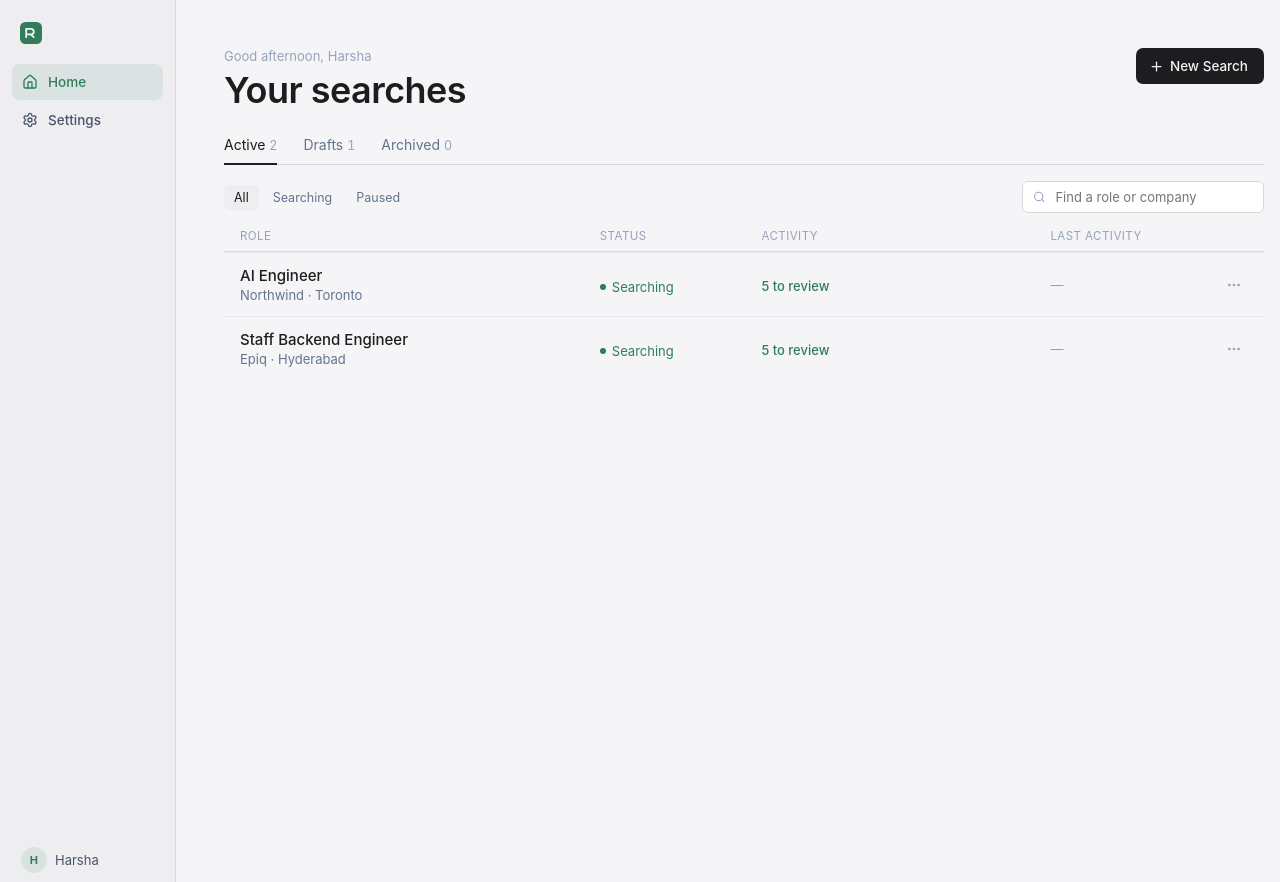
the sidebar and switching between searches › opens a search from the sidebar, marks it active, and shows its own candidates
Click the button "New Search" at (1200, 66), box x1=1136 y1=48 x2=1264 y2=84
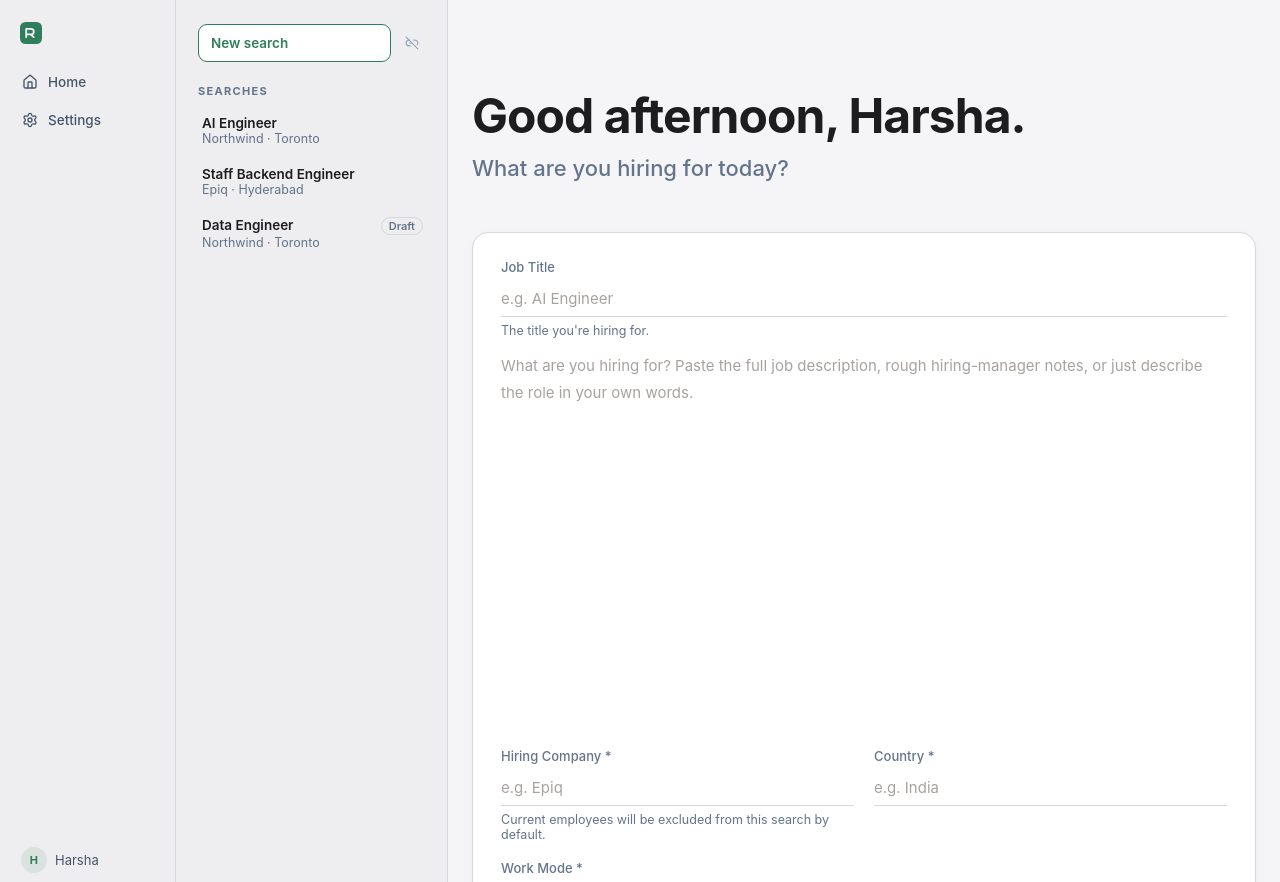
Click the button with class "app-sidebar__item" that starts with "AI Engineer" at (312, 130), box x1=190 y1=106 x2=433 y2=155
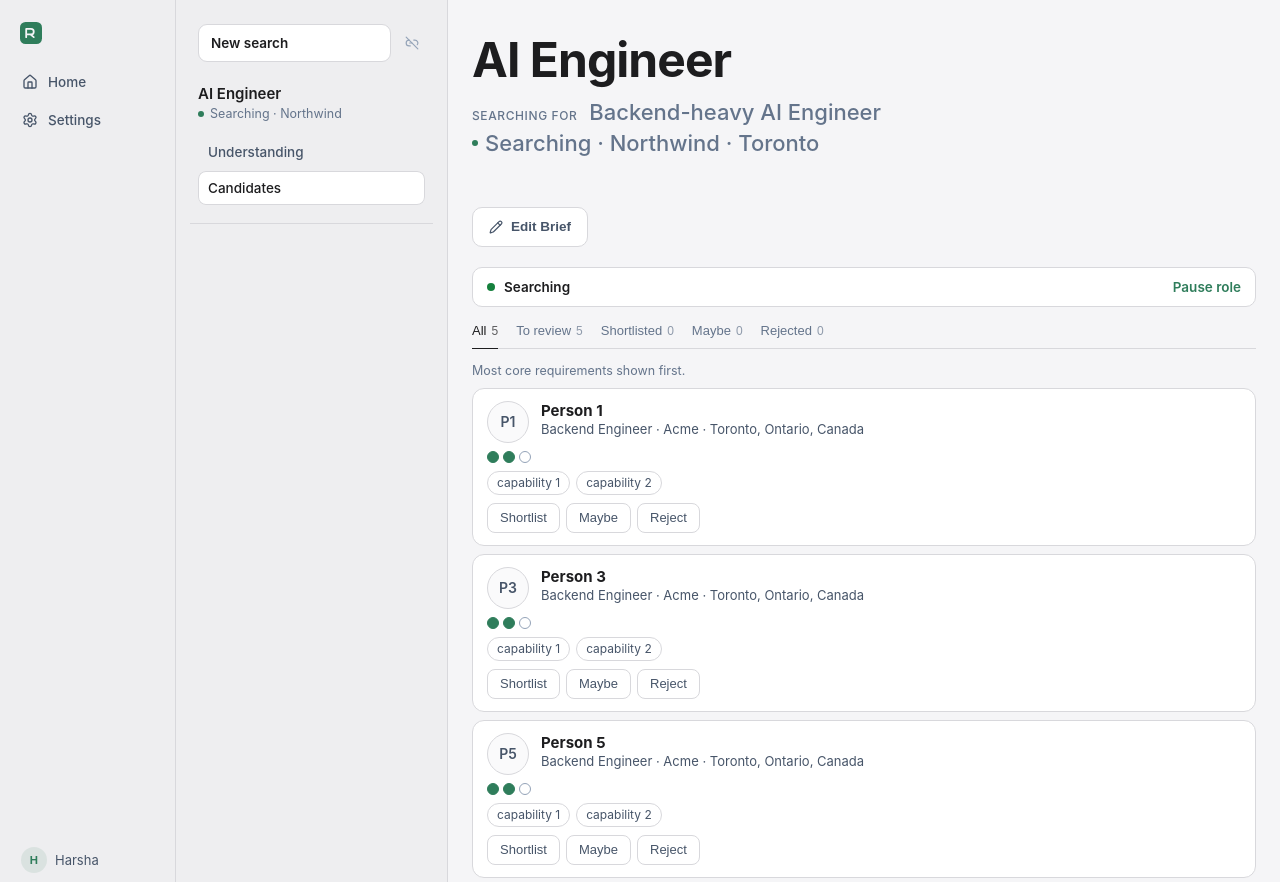
Expected: the heading "AI Engineer" is shown, x1=472 y1=30 x2=731 y2=89
Expected: the text with class "app-sidebar__role-title" reads "AI Engineer", x1=198 y1=84 x2=281 y2=103
Expected: the button with class "is-active" reads "Candidates", x1=198 y1=171 x2=425 y2=205
